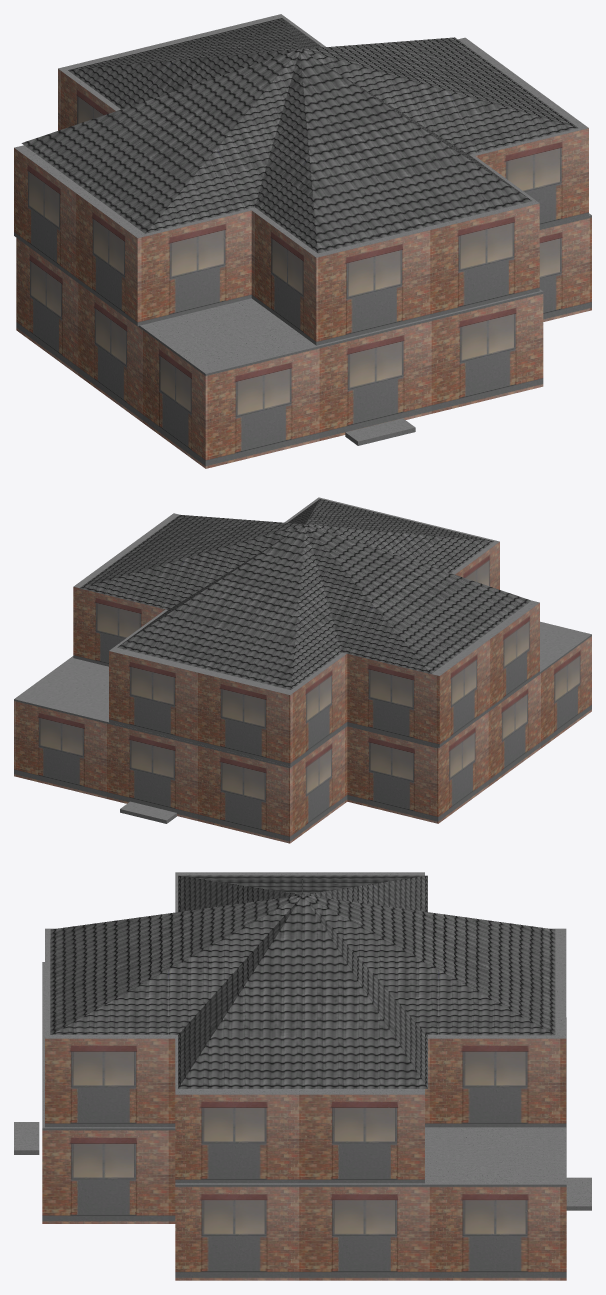
Rendered from LOD01_Building_2stores_HouseBrick.obj.
The picture shows the model from 3 angles, top to bottom: view 1: azimuth 30°, elevation 25°; view 2: azimuth 150°, elevation 25°; view 3: azimuth 270°, elevation 25°; orthographic projection. The views are drawn at different scales.
Parts seen in each view (by area): view 1: LOD01_Building_2stores_HouseBrick; view 2: LOD01_Building_2stores_HouseBrick; view 3: LOD01_Building_2stores_HouseBrick.
Boxes of the visible parts, box(x1,y1,x2,y2) form: LOD01_Building_2stores_HouseBrick: box(14, 14, 591, 468); LOD01_Building_2stores_HouseBrick: box(14, 497, 591, 843); LOD01_Building_2stores_HouseBrick: box(14, 872, 591, 1280).
Size of the model in its own units: 5.27 by 3 by 5.76.
